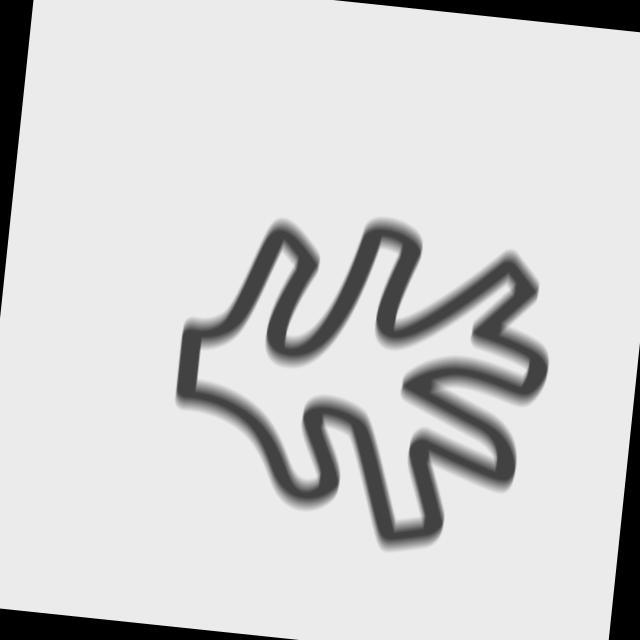coral: (153, 190, 566, 574)
